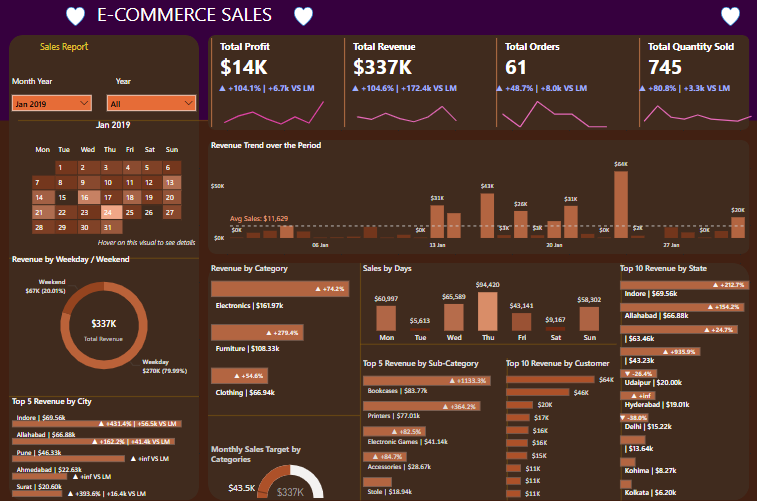

The dashboard page shown, as its layout file describes it:
{"tool":"powerbi","page":{"name":"Page 1","canvas":[1280,850],"ordinal":0},"visuals":[{"type":"shape","box":[0,0,1280,208],"z":0},{"type":"cardVisual","fields":{"Data":["Order_Detailsss.Total Profit"]},"box":[352,64,182,160],"z":0,"group":"g4"},{"type":"cardVisual","fields":{"Data":["Order_Detailsss.Total Revenue"]},"box":[576,64,182,160],"z":0,"group":"g1"},{"type":"cardVisual","fields":{"Data":["Order_Detailsss.Total Orders"]},"box":[832,64,208,160],"z":0,"group":"g2"},{"type":"cardVisual","fields":{"Data":["Order_Detailsss.Total Quantity Sold"]},"box":[1072,64,208,160],"z":0,"group":"g3"},{"type":"shape","box":[16,64,320,784],"z":1000},{"type":"lineChart","fields":{"Category":["Date Table.Date.Variation.Date Hierarchy.Year","Date Table.Date.Variation.Date Hierarchy.Quarter","Date Table.Date.Variation.Date Hierarchy.Month","Date Table.Date.Variation.Date Hierarchy.Day"],"Y":["Order_Detailsss.Total Profit"]},"box":[365,144,195,80],"z":1000,"group":"g4"},{"type":"lineChart","fields":{"Y":["Order_Detailsss.Total Revenue"],"Category":["Date Table.Date.Variation.Date Hierarchy.Year","Date Table.Date.Variation.Date Hierarchy.Quarter","Date Table.Date.Variation.Date Hierarchy.Month","Date Table.Date.Variation.Date Hierarchy.Day"]},"box":[589,144,195,80],"z":1000,"group":"g1"},{"type":"lineChart","fields":{"Category":["Date Table.Date.Variation.Date Hierarchy.Year","Date Table.Date.Variation.Date Hierarchy.Quarter","Date Table.Date.Variation.Date Hierarchy.Month","Date Table.Date.Variation.Date Hierarchy.Day"],"Y":["Order_Detailsss.Total Orders"]},"box":[832,144,208,80],"z":1000,"group":"g2"},{"type":"lineChart","fields":{"Category":["Date Table.Date.Variation.Date Hierarchy.Year","Date Table.Date.Variation.Date Hierarchy.Quarter","Date Table.Date.Variation.Date Hierarchy.Month","Date Table.Date.Variation.Date Hierarchy.Day"],"Y":["Order_Detailsss.Total Quantity Sold"]},"box":[1072,144,208,80],"z":1000,"group":"g3"},{"type":"shape","box":[352,64,912,160],"z":2000},{"type":"group","id":"g1","title":"Group 1","box":[576,64,208,160],"z":3000},{"type":"group","id":"g2","title":"Group 1","box":[832,64,208,160],"z":4000},{"type":"group","id":"g3","title":"Group 1","box":[1072,64,208,160],"z":5000},{"type":"group","id":"g4","title":"Group 1","box":[352,64,208,160],"z":6000},{"type":"pivotTable","fields":{"Rows":["Date Table.Week Number"],"Columns":["Date Table.Day Name"],"Values":["Min(Date Table.Day Number)"]},"box":[32,240,304,192],"z":7000},{"type":"slicer","fields":{"Values":["Date Table.Month Year"]},"box":[16,160,144,32],"z":8000},{"type":"card","fields":{"Values":["Min(Date Table.Month Year)"]},"box":[128,192,128,48],"z":9000},{"type":"card","fields":{"Values":["Order_Detailsss.Foot Note"]},"box":[144,384,208,64],"z":10000},{"type":"shape","box":[16,416,320,48],"z":11000},{"type":"shape","box":[32,192,320,32],"z":12000},{"type":"donutChart","title":" Revenue by Weekday / Weekend","fields":{"Category":["Date Table.Weekday / Weekend"],"Y":["Order_Detailsss.Total Revenue"]},"box":[16,432,320,224],"z":13000},{"type":"card","fields":{"Values":["Order_Detailsss.Total Revenue"]},"box":[128,512,96,96],"z":14000},{"type":"shape","box":[16,656,320,32],"z":15000},{"type":"clusteredBarChart","title":"Top 5 Revenue by City","fields":{"Y":["Order_Detailsss.Placeholder","Order_Detailsss.Total Revenue"],"Category":["List of Orders.City"]},"box":[16,672,320,176],"z":16000},{"type":"shape","box":[352,240,912,192],"z":17000},{"type":"columnChart","title":"Revenue Trend over the Period","fields":{"Category":["List of Orders.Order Date"],"Y":["Order_Detailsss.Total Revenue"]},"box":[352,240,912,192],"z":18000},{"type":"shape","box":[352,448,912,400],"z":19000},{"type":"clusteredBarChart","title":"Revenue by Category","fields":{"Y":["Order_Detailsss.Total Revenue","Order_Detailsss.Placeholder"],"Category":["Order_Detailsss.Category"]},"box":[352,448,256,240],"z":20000},{"type":"gauge","title":" Monthly Sales Target by Categories","fields":{"Y":["Order_Detailsss.Total Revenue"],"TargetValue":["Sales target.Monthly Target"]},"box":[352,752,224,96],"z":21000},{"type":"shape","box":[592,448,32,400],"z":22000},{"type":"shape","box":[352,688,256,32],"z":23000},{"type":"clusteredBarChart","title":"Top 5 Revenue by Sub-Category","fields":{"Y":["Order_Detailsss.Total Revenue","Order_Detailsss.Placeholder"],"Category":["Order_Detailsss.Sub_Category"]},"box":[608,608,256,240],"z":24000},{"type":"shape","box":[832,608,48,240],"z":25000},{"type":"clusteredBarChart","title":"Top 10 Revenue by Customer","fields":{"Y":["Order_Detailsss.Total Revenue"],"Category":["List of Orders.CustomerName"]},"box":[848,608,192,240],"z":26000},{"type":"shape","box":[1024,448,48,400],"z":27000},{"type":"clusteredBarChart","title":"Top 10 Revenue by State","fields":{"Y":["Order_Detailsss.Total Revenue","Order_Detailsss.Placeholder"],"Category":["List of Orders.State"]},"box":[1040,448,240,400],"z":28000},{"type":"slicer","fields":{"Values":["Date Table.Year"]},"box":[176,160,160,32],"z":29000},{"type":"textbox","box":[16,128,96,32],"z":30000},{"type":"textbox","box":[64,64,128,64],"z":31000},{"type":"textbox","box":[192,128,48,32],"z":32000},{"type":"textbox","box":[160,0,352,64],"z":33000},{"type":"shape","box":[496,16,32,32],"z":34000},{"type":"shape","box":[112,16,32,32],"z":35000},{"type":"shape","box":[1216,16,32,32],"z":36000},{"type":"shape","box":[608,560,432,48],"z":37000},{"type":"columnChart","title":"Sales by Days","fields":{"Y":["Order_Detailsss.Total Revenue"],"Category":["Date Table.Day Name"]},"box":[608,448,432,144],"z":38000}]}

Visuals, with their boxes in screenshot pixels (x1, y1, x2, y2), scaled from the page's 1280x850 canvas onto the 757x501 screenshot:
shape: (x1=0, y1=0, x2=756, y2=123)
cardVisual - Order_Detailsss.Total Profit: (x1=208, y1=38, x2=316, y2=132)
cardVisual - Order_Detailsss.Total Revenue: (x1=341, y1=38, x2=448, y2=132)
cardVisual - Order_Detailsss.Total Orders: (x1=492, y1=38, x2=615, y2=132)
cardVisual - Order_Detailsss.Total Quantity Sold: (x1=634, y1=38, x2=756, y2=132)
shape: (x1=9, y1=38, x2=199, y2=500)
lineChart - Date Table.Date.Variation.Date Hierarchy.Year x Date Table.Date.Variation.Date Hierarchy.Quarter: (x1=216, y1=85, x2=331, y2=132)
lineChart - Order_Detailsss.Total Revenue x Date Table.Date.Variation.Date Hierarchy.Year: (x1=348, y1=85, x2=464, y2=132)
lineChart - Date Table.Date.Variation.Date Hierarchy.Year x Date Table.Date.Variation.Date Hierarchy.Quarter: (x1=492, y1=85, x2=615, y2=132)
lineChart - Date Table.Date.Variation.Date Hierarchy.Year x Date Table.Date.Variation.Date Hierarchy.Quarter: (x1=634, y1=85, x2=756, y2=132)
shape: (x1=208, y1=38, x2=748, y2=132)
"Group 1" group: (x1=341, y1=38, x2=464, y2=132)
"Group 1" group: (x1=492, y1=38, x2=615, y2=132)
"Group 1" group: (x1=634, y1=38, x2=756, y2=132)
"Group 1" group: (x1=208, y1=38, x2=331, y2=132)
pivotTable - Date Table.Week Number x Date Table.Day Name: (x1=19, y1=141, x2=199, y2=255)
slicer - Date Table.Month Year: (x1=9, y1=94, x2=95, y2=113)
card - Min(Date Table.Month Year): (x1=76, y1=113, x2=151, y2=141)
card - Order_Detailsss.Foot Note: (x1=85, y1=226, x2=208, y2=264)
shape: (x1=9, y1=245, x2=199, y2=273)
shape: (x1=19, y1=113, x2=208, y2=132)
" Revenue by Weekday / Weekend" donutChart: (x1=9, y1=255, x2=199, y2=387)
card - Order_Detailsss.Total Revenue: (x1=76, y1=302, x2=132, y2=358)
shape: (x1=9, y1=387, x2=199, y2=406)
"Top 5 Revenue by City" clusteredBarChart: (x1=9, y1=396, x2=199, y2=500)
shape: (x1=208, y1=141, x2=748, y2=255)
"Revenue Trend over the Period" columnChart: (x1=208, y1=141, x2=748, y2=255)
shape: (x1=208, y1=264, x2=748, y2=500)
"Revenue by Category" clusteredBarChart: (x1=208, y1=264, x2=360, y2=406)
" Monthly Sales Target by Categories" gauge: (x1=208, y1=443, x2=341, y2=500)
shape: (x1=350, y1=264, x2=369, y2=500)
shape: (x1=208, y1=406, x2=360, y2=424)
"Top 5 Revenue by Sub-Category" clusteredBarChart: (x1=360, y1=358, x2=511, y2=500)
shape: (x1=492, y1=358, x2=520, y2=500)
"Top 10 Revenue by Customer" clusteredBarChart: (x1=502, y1=358, x2=615, y2=500)
shape: (x1=606, y1=264, x2=634, y2=500)
"Top 10 Revenue by State" clusteredBarChart: (x1=615, y1=264, x2=756, y2=500)
slicer - Date Table.Year: (x1=104, y1=94, x2=199, y2=113)
textbox: (x1=9, y1=75, x2=66, y2=94)
textbox: (x1=38, y1=38, x2=114, y2=75)
textbox: (x1=114, y1=75, x2=142, y2=94)
textbox: (x1=95, y1=0, x2=303, y2=38)
shape: (x1=293, y1=9, x2=312, y2=28)
shape: (x1=66, y1=9, x2=85, y2=28)
shape: (x1=719, y1=9, x2=738, y2=28)
shape: (x1=360, y1=330, x2=615, y2=358)
"Sales by Days" columnChart: (x1=360, y1=264, x2=615, y2=349)
